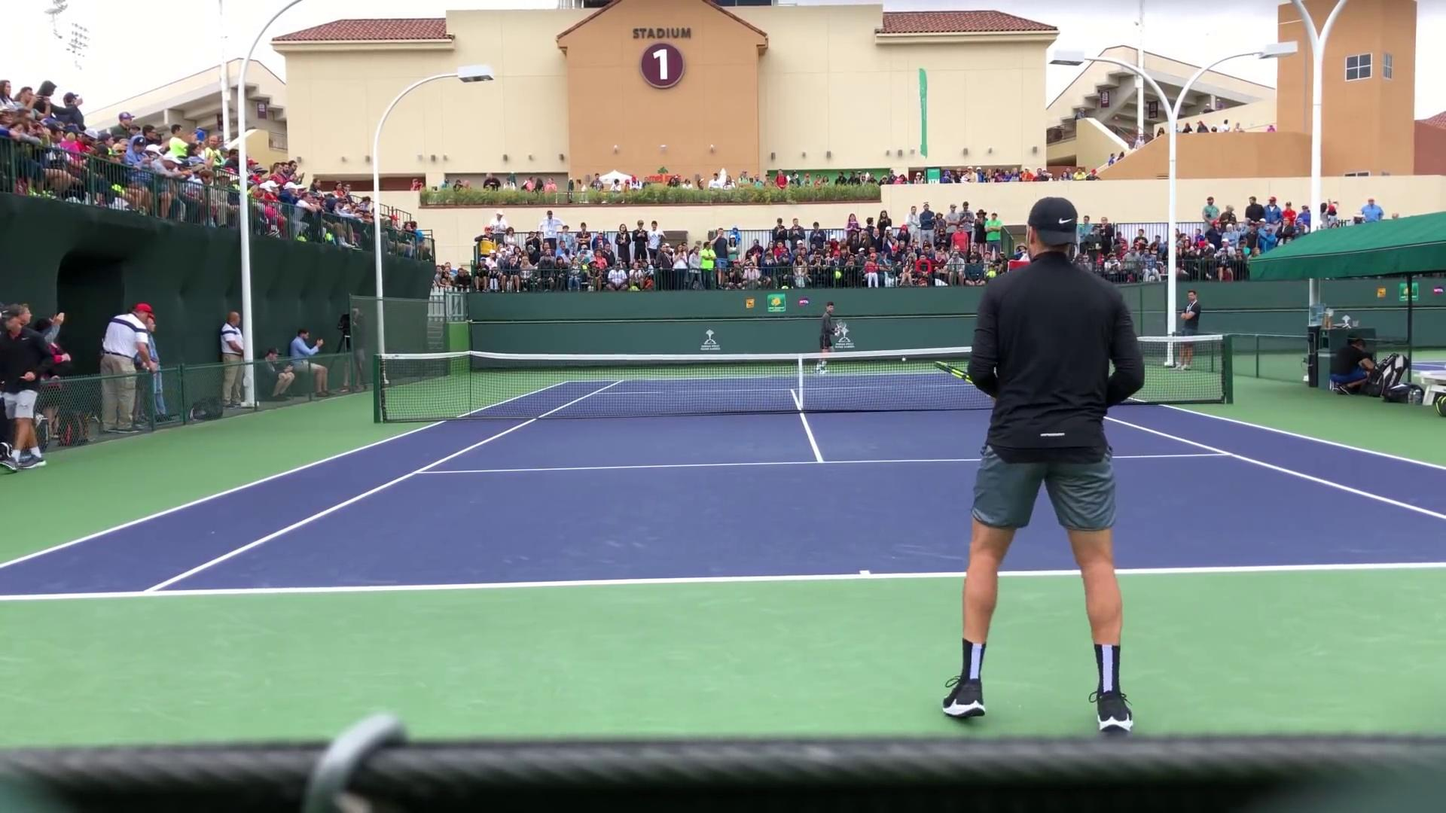ball: (900, 356, 908, 362)
